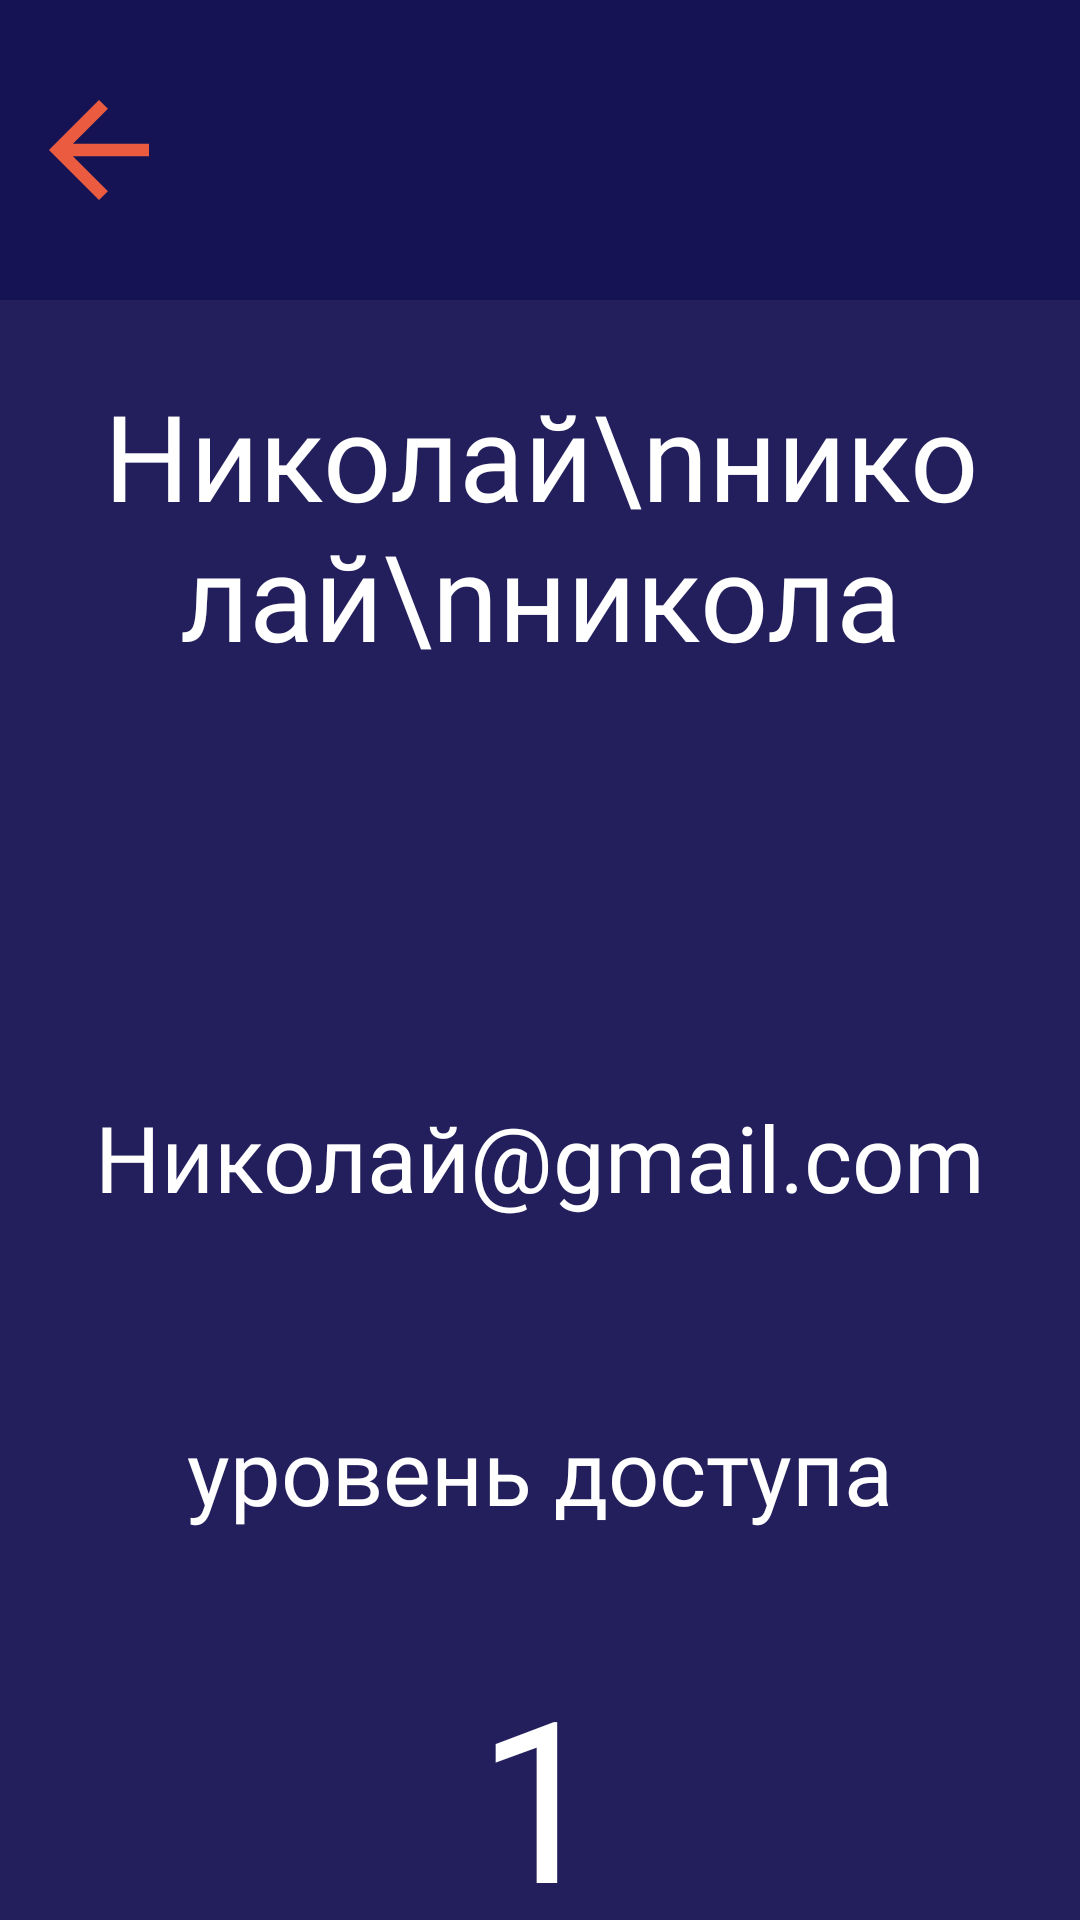

Icon click points for this 1080*1920 phone screenshot, format (x=x, y=y):
back: (x=99, y=150)
